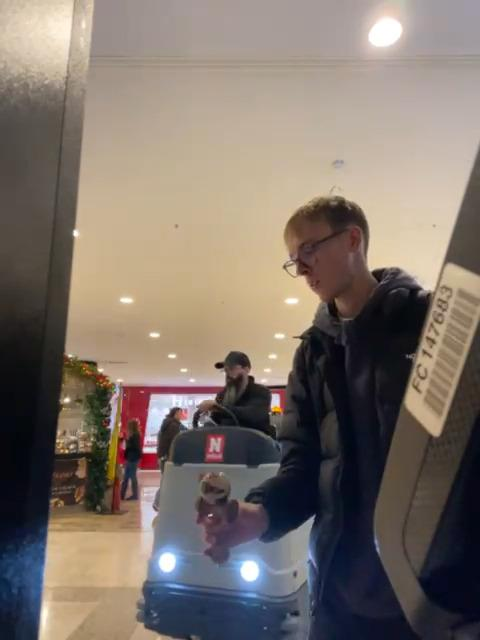kendama_ball: (198, 472, 232, 504)
